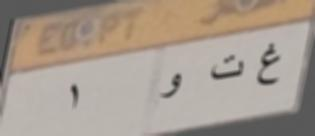1: (65, 80, 82, 114)
ghayn: (254, 42, 282, 90)
taa: (205, 51, 248, 87)
waw: (159, 68, 183, 102)
